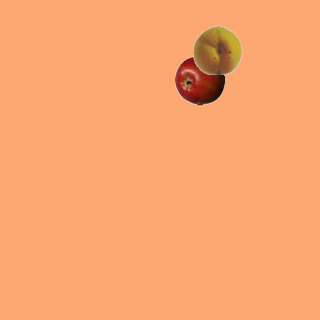Apple Braeburn: (174, 55, 224, 105)
Peach 2: (192, 24, 242, 74)
